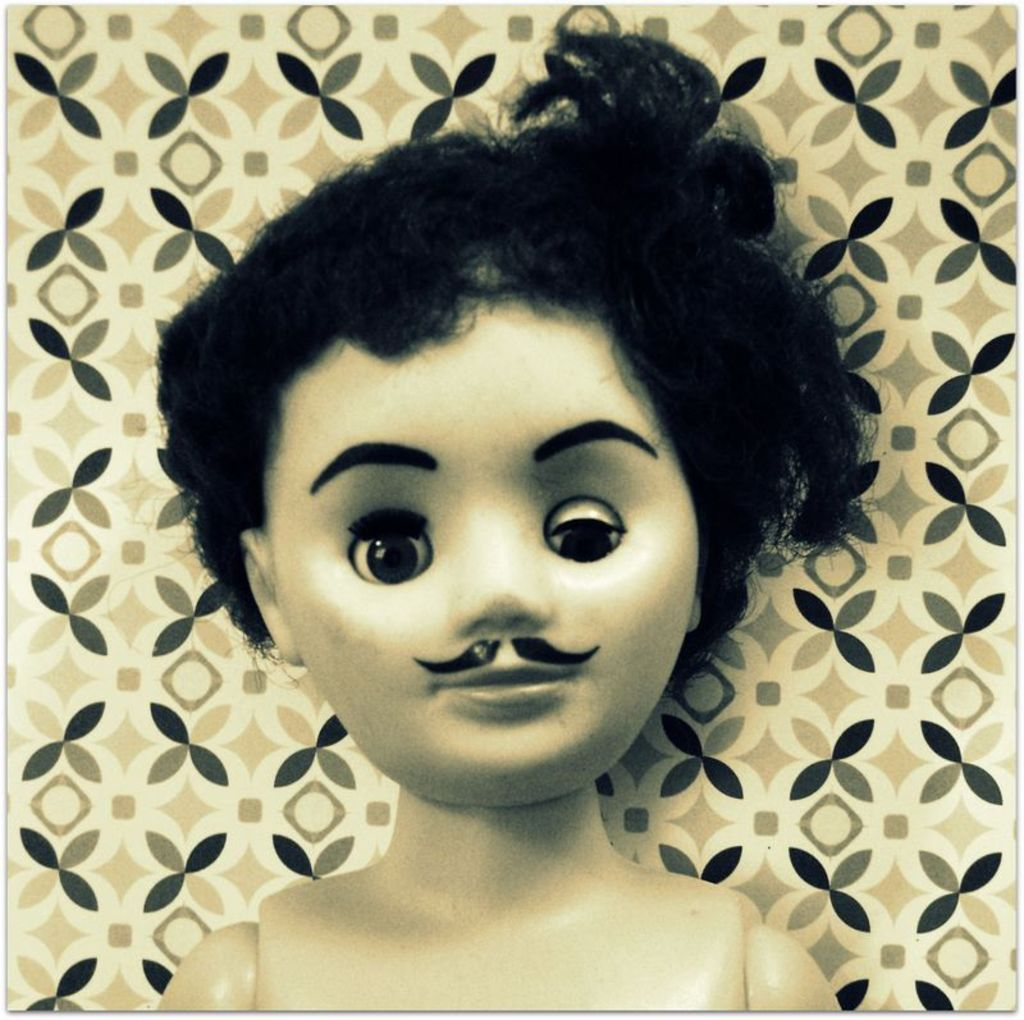Person: (150, 25, 891, 1009)
